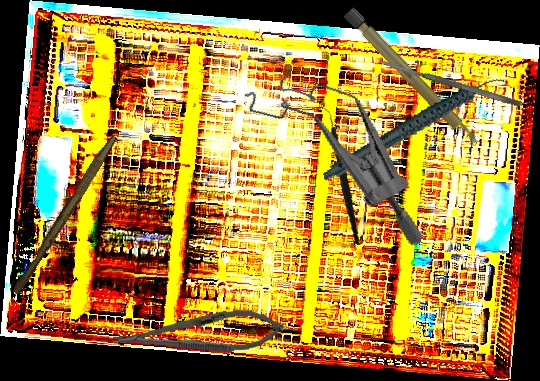Chopper: (300, 105, 380, 246)
Handpiece: (310, 73, 518, 183)
Needle Holder: (111, 306, 285, 360)
Scalpel Handle: (341, 5, 483, 152), (11, 131, 118, 298)
Spatula Surgical: (378, 57, 523, 109)
Speculum: (215, 56, 461, 249)
